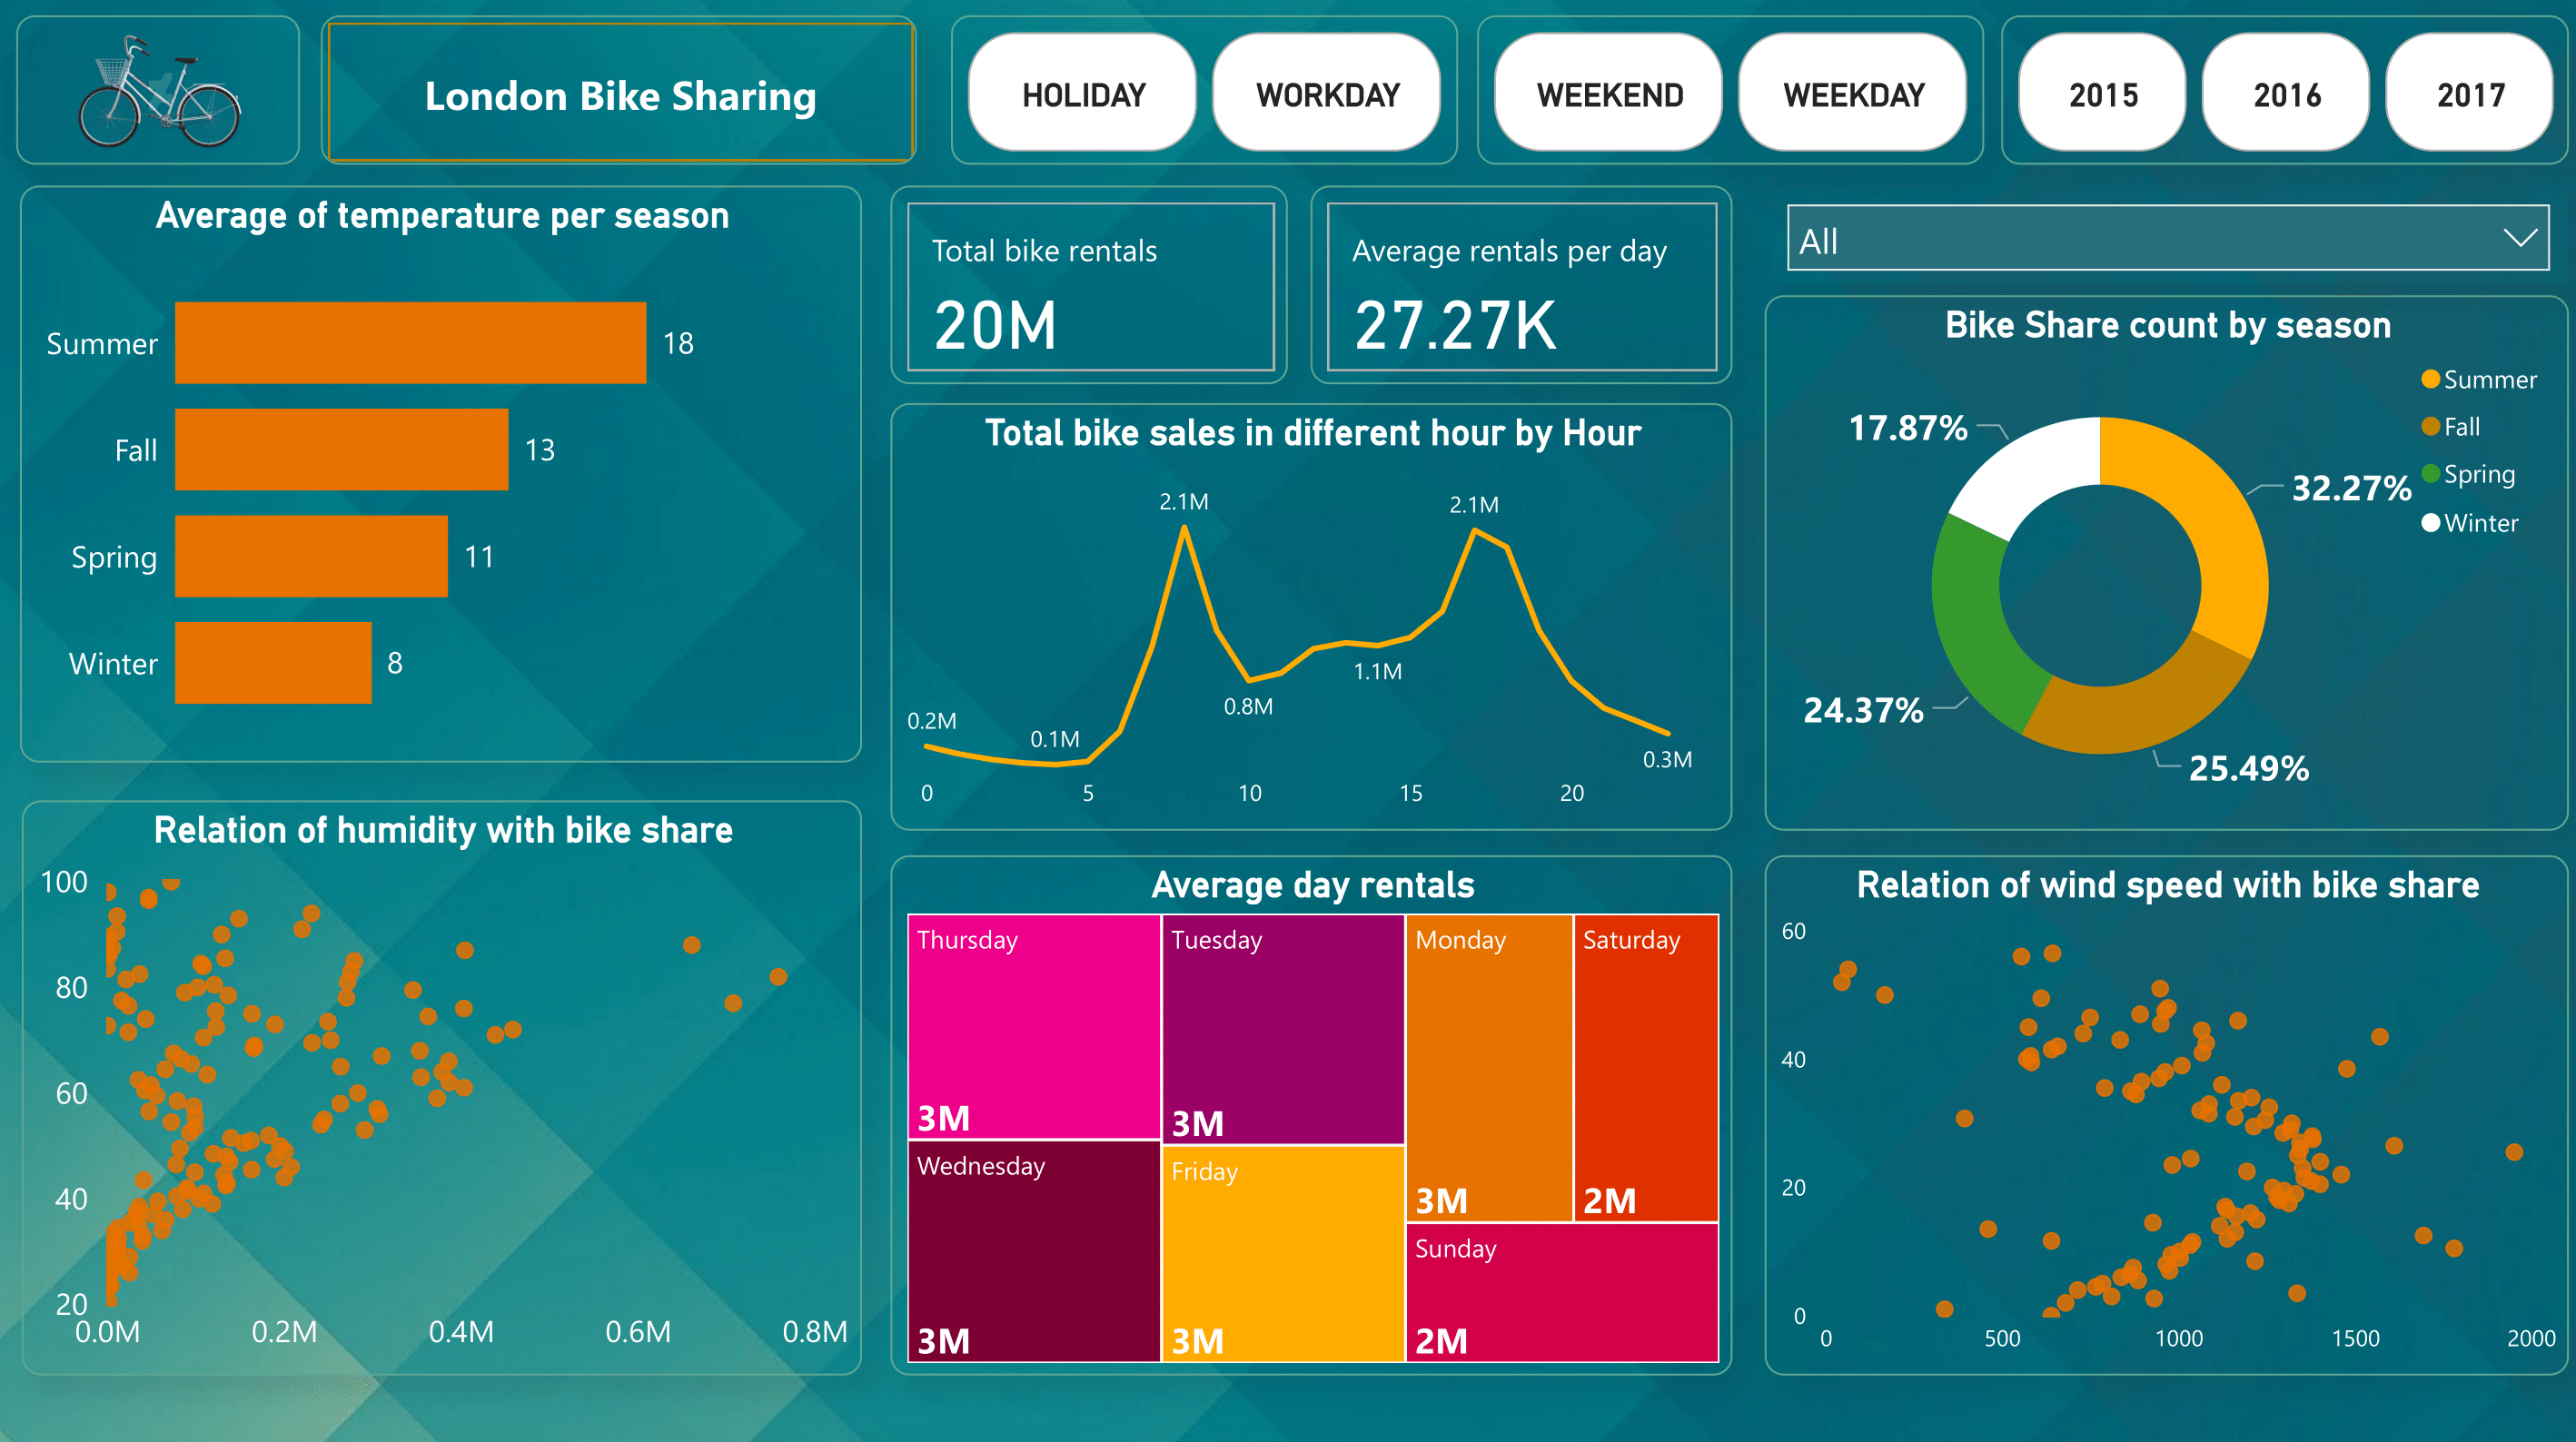

Layout of this report page (visuals, bound fields, positions):
{"tool":"powerbi","page":{"name":"Page 1","canvas":[1366,768],"ordinal":0},"visuals":[{"type":"shape","title":"London Bike Sharing","box":[171,10.3,315.2,79.1],"z":0,"group":"g1"},{"type":"donutChart","title":"Bike Share count by season","fields":{"Category":["london_merged.Season"],"Y":["Sum(london_merged.New_bike_share_count)"]},"box":[934.3,158.2,424.7,282.6],"z":0},{"type":"image","box":[10.3,10.3,150,79.1],"z":1000,"group":"g1"},{"type":"advancedSlicerVisual","fields":{"Values":["london_merged.Date.Variation.Date Hierarchy.Year"]},"box":[1058.8,10.3,300.2,79.1],"z":1000},{"type":"group","id":"g1","title":"Group 1","box":[10.3,10.3,475.9,79.1],"z":2000},{"type":"clusteredBarChart","title":"Average of temperature per season","fields":{"Y":["Avg(london_merged.temp_C)"],"Category":["london_merged.Season"]},"box":[11.7,99.6,445.2,305],"z":3000},{"type":"lineChart","fields":{"Y":["Sum(london_merged.New_bike_share_count)"],"Category":["london_merged.Hour"]},"box":[471.5,215.3,445.2,225.5],"z":4000},{"type":"advancedSlicerVisual","fields":{"Values":["london_merged.is_weekend"]},"box":[782,10.3,268,79.1],"z":5000},{"type":"advancedSlicerVisual","fields":{"Values":["london_merged.is_holiday"]},"box":[503.8,10.3,268,79.1],"z":6000},{"type":"slicer","fields":{"Values":["london_merged.weather Code"]},"box":[935.8,99.6,423.2,52.7],"z":7000},{"type":"cardVisual","fields":{"Data":["london_merged.AvgBikeRentalsPerDay"]},"box":[694.1,99.6,222.6,105.4],"z":8000},{"type":"cardVisual","fields":{"Data":["Sum(london_merged.New_bike_share_count)"]},"box":[471.5,99.6,210.9,105.4],"z":8001},{"type":"scatterChart","title":"Relation of humidity with bike share","fields":{"X":["Sum(london_merged.New_bike_share_count)"],"Y":["london_merged.humidity"]},"box":[13.2,424.7,443.7,304.6],"z":8002},{"type":"treemap","title":"Average day rentals","fields":{"Group":["london_merged.Day Name"],"Values":["Sum(london_merged.New_bike_share_count)"]},"box":[471.5,454,445.2,275.3],"z":8003},{"type":"scatterChart","title":"Relation of wind speed with bike share","fields":{"Y":["london_merged.wind_speed"],"X":["Avg(london_merged.New_bike_share_count)"]},"box":[934,454,425,275],"z":8004}]}

Visuals, with their boxes in screenshot pixels (x1, y1, x2, y2), scaled from the page's 1366x768 canvas onto the 2576x1442 screenshot:
"London Bike Sharing" shape: 322 19 916 168
"Bike Share count by season" donutChart: 1762 297 2562 827
image: 19 19 302 168
advancedSlicerVisual - london_merged.Date.Variation.Date Hierarchy.Year: 1996 19 2562 168
"Group 1" group: 19 19 916 168
"Average of temperature per season" clusteredBarChart: 22 187 862 760
lineChart - Sum(london_merged.New_bike_share_count) x london_merged.Hour: 889 404 1729 827
advancedSlicerVisual - london_merged.is_weekend: 1475 19 1980 168
advancedSlicerVisual - london_merged.is_holiday: 950 19 1455 168
slicer - london_merged.weather Code: 1765 187 2562 286
cardVisual - london_merged.AvgBikeRentalsPerDay: 1309 187 1729 385
cardVisual - Sum(london_merged.New_bike_share_count): 889 187 1287 385
"Relation of humidity with bike share" scatterChart: 25 797 862 1369
"Average day rentals" treemap: 889 853 1729 1369
"Relation of wind speed with bike share" scatterChart: 1761 853 2562 1368
